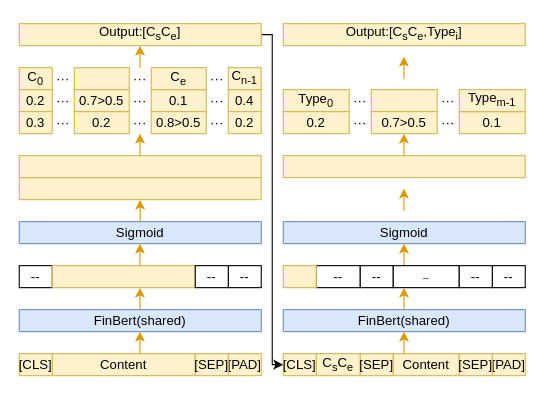
Image size: 545x395. Some labels were removed from this diagram. Here are the shapes that lost their labels. From the top down, the box of each, then its label:
(73, 67, 129, 90): C s
(370, 89, 437, 112): Type i
(18, 155, 261, 178): Span of Start:[S 0 ,...,S n -1 ]
(282, 155, 525, 178): Score:[S 0 ,...,S m-1 ]
(18, 177, 261, 200): Span of End:[S 0 ,...,S n -1 ]
(51, 265, 195, 288): S 0 ,...,S n-1
